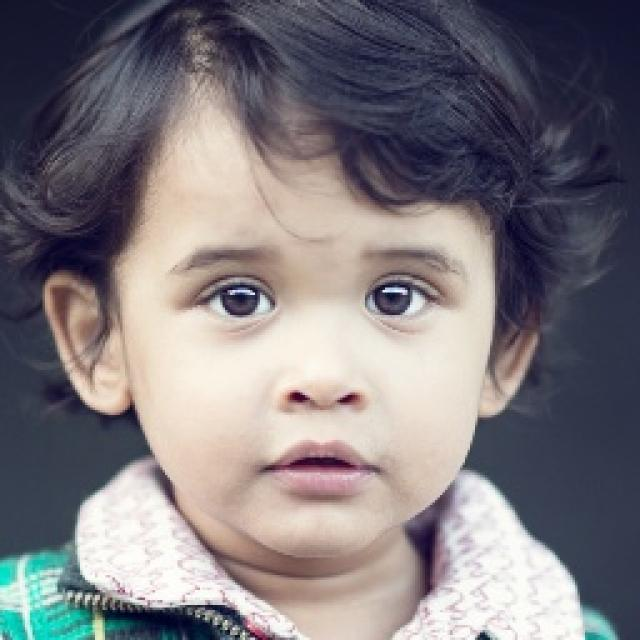earlobe: (44, 273, 136, 418), (478, 247, 544, 418)
